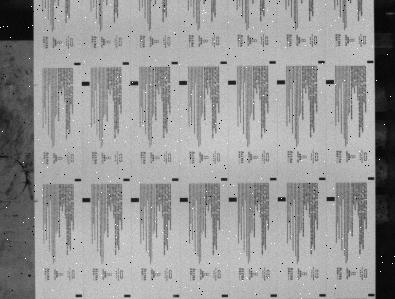backgroundclutter: (28, 275, 31, 278)
qblock: (130, 81, 139, 86), (277, 80, 286, 85), (82, 198, 91, 203), (327, 197, 336, 202), (131, 198, 139, 203), (180, 198, 188, 203), (179, 81, 188, 85), (228, 81, 237, 85), (326, 80, 335, 84), (278, 198, 287, 202), (82, 82, 90, 86), (229, 198, 237, 202)
smallqblock: (368, 177, 376, 181), (74, 62, 81, 66), (368, 60, 375, 64), (172, 178, 179, 182), (74, 179, 82, 182), (270, 178, 278, 181), (75, 295, 83, 298), (270, 61, 277, 64), (171, 62, 178, 65), (221, 61, 228, 64), (319, 61, 326, 64), (123, 179, 130, 182), (221, 178, 228, 181), (319, 178, 326, 181), (173, 295, 180, 298), (271, 295, 278, 298), (124, 295, 131, 298), (222, 295, 229, 298), (320, 294, 327, 297), (369, 294, 376, 297), (123, 62, 129, 65)
